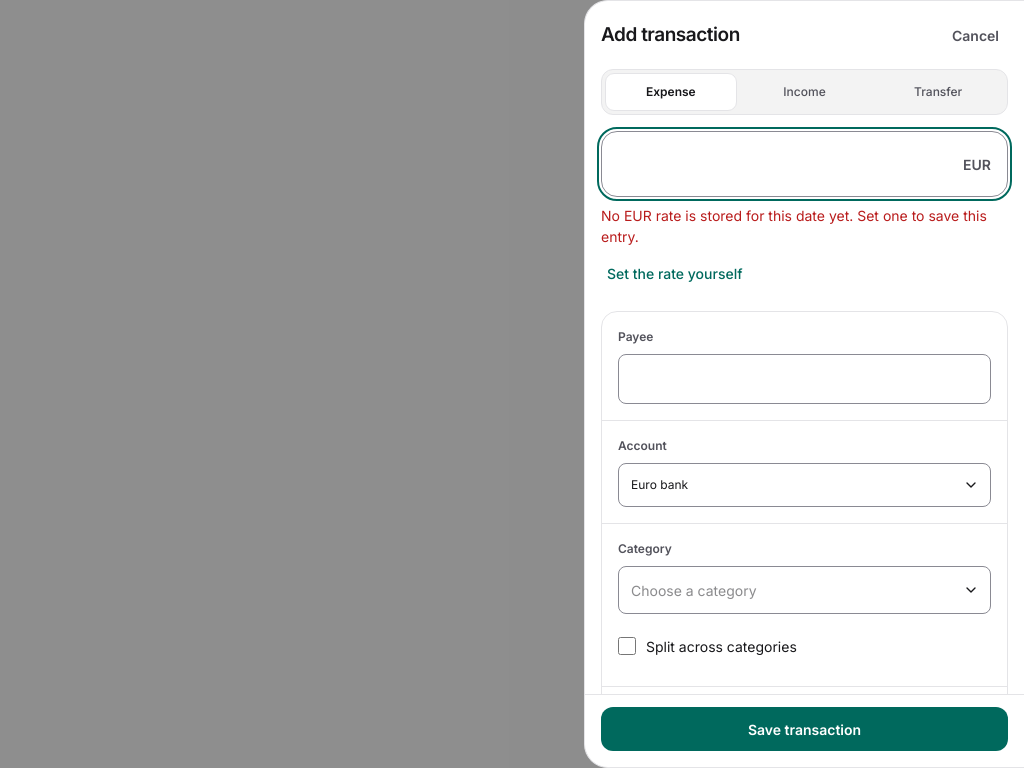
Test case: says so when no rate is stored, and rejects a bad hand-set rate
Type "100" into the field named "Amount (EUR)".
click(785, 164); type("100")  # box [618,132,951,196]
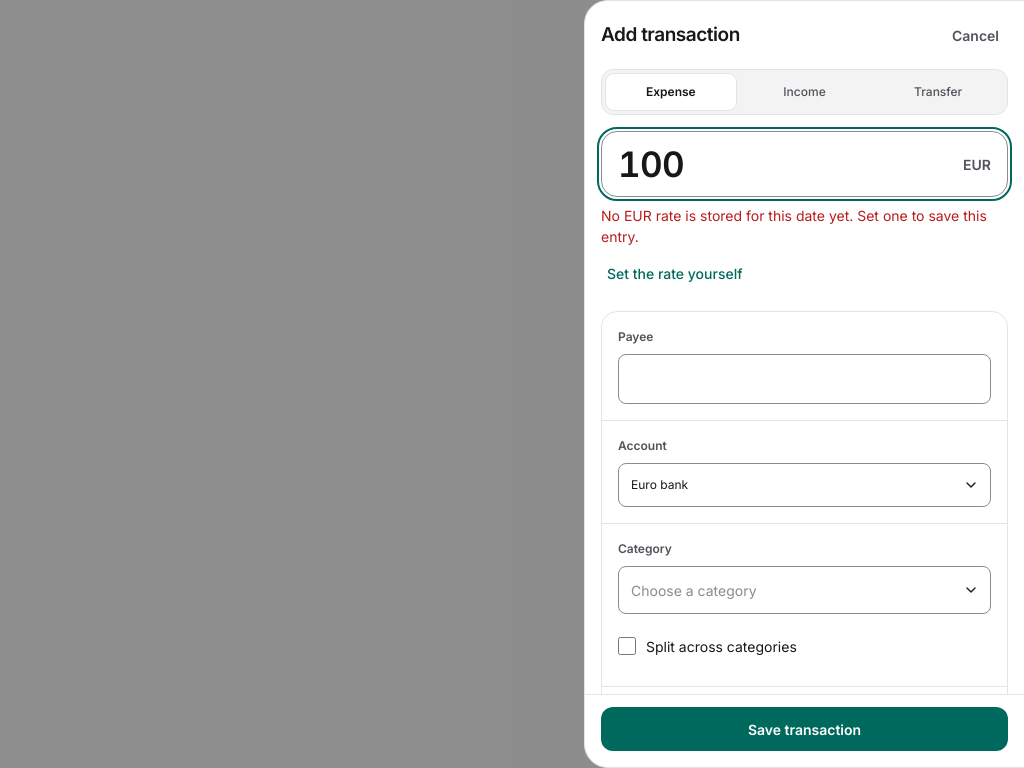
Expected: the message shows "No EUR rate is stored for this date yet", [601,207,987,245]
Click the button "Set the rate yourself".
click(675, 273)  # box [601,251,748,295]
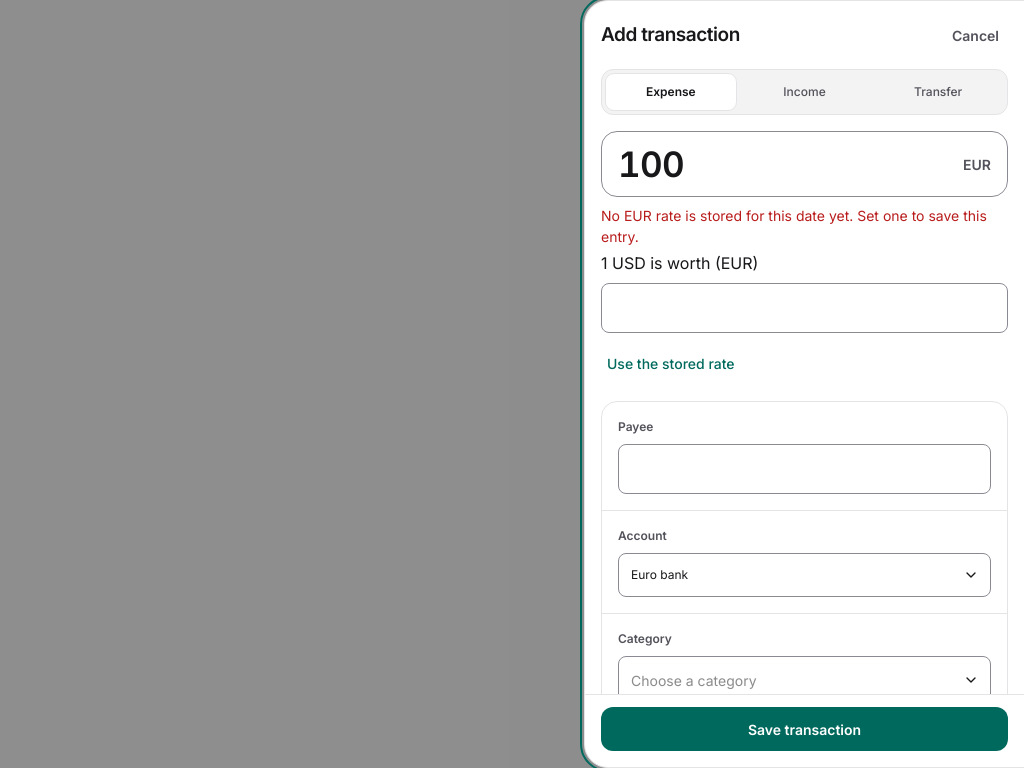
Type "abc" into the field labelled "1 USD is worth (EUR)".
click(804, 308); type("abc")  # box [601,283,1008,333]
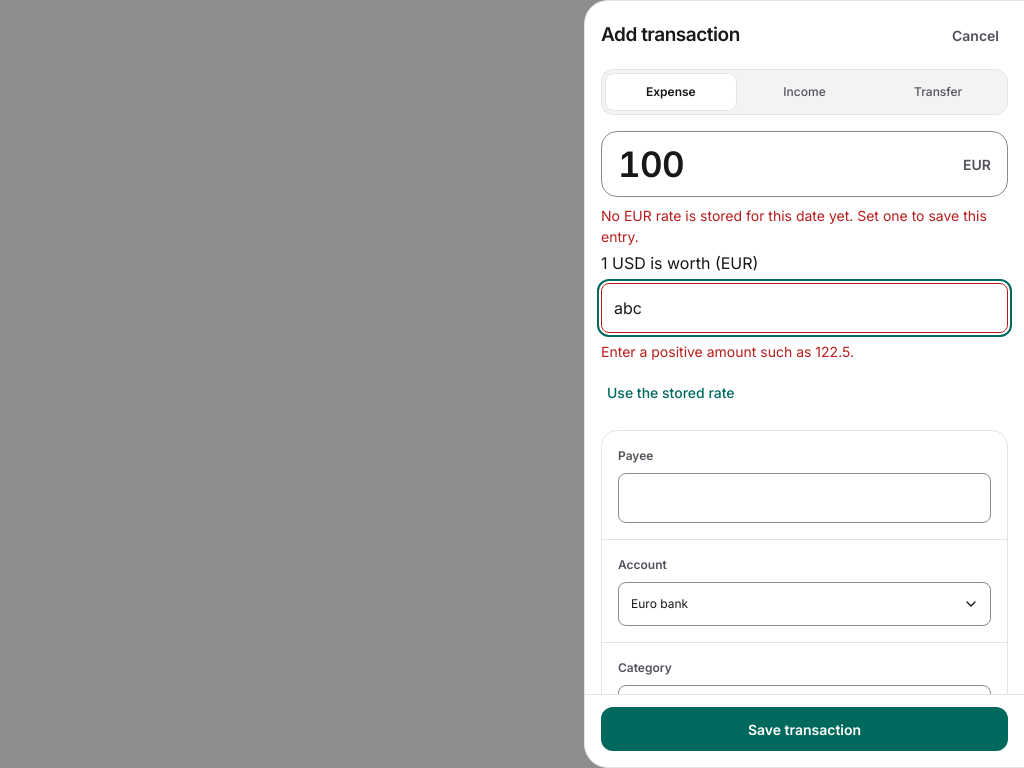
Result: the text "Enter a positive amount such as 122.5." is shown at [601,343,854,360]
